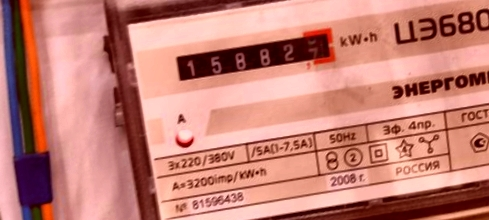1: (181, 54, 196, 75)
2: (279, 39, 293, 60)
5: (206, 51, 220, 73)
7: (305, 43, 317, 58)
8: (255, 43, 270, 66), (231, 47, 245, 69)
screen: (164, 19, 344, 88)
